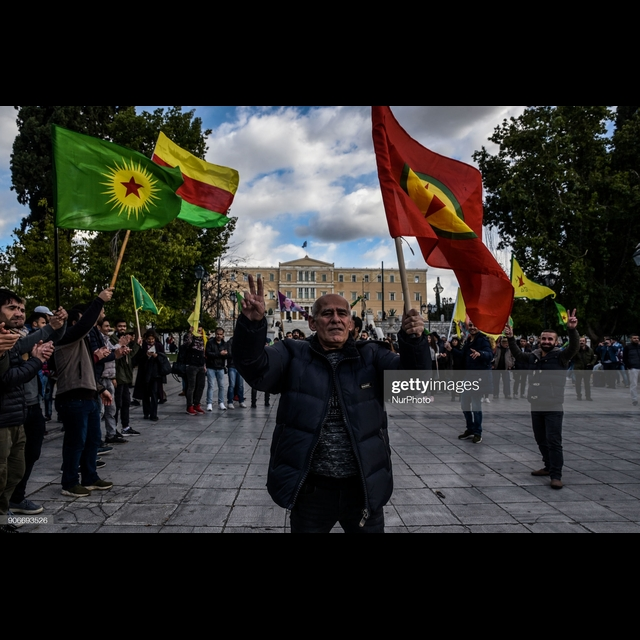KCK: (50, 124, 183, 233)
PKK: (368, 101, 511, 335)
YPG: (509, 251, 561, 301)
ZI: (234, 269, 275, 327), (566, 308, 582, 340)
